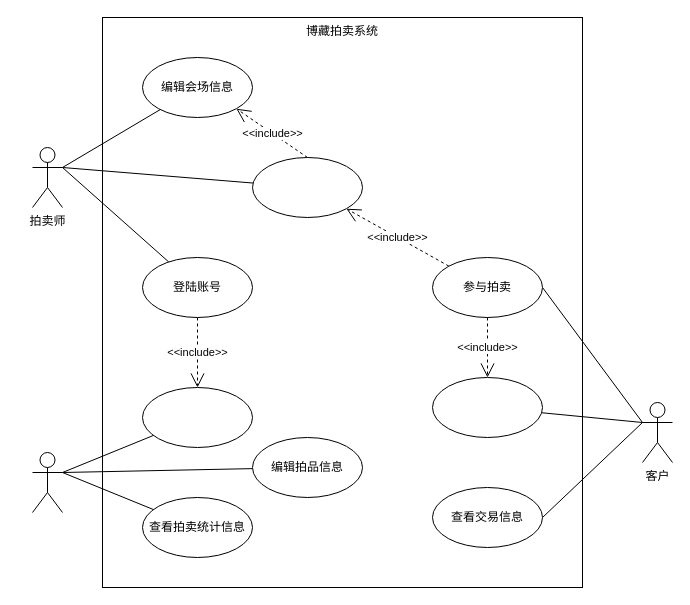
Some shapes in this 690 by 605 pixel diagram are drawn without their labels. The centre of each missing label's shape, as x and y in pixels:
"主持拍品拍卖" belongs at pixel 307 187.
"检索会场信息" belongs at pixel 487 407.
"注册拍卖师账号" belongs at pixel 197 417.
"系统管理员" belongs at pixel 47 482.
